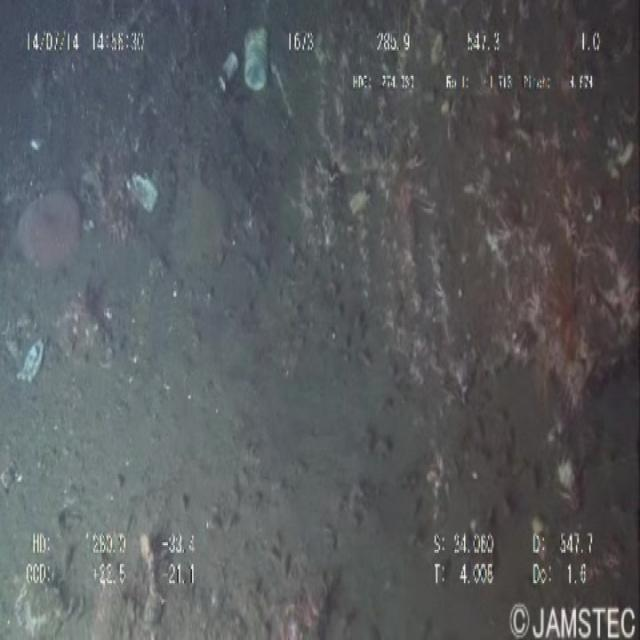Glass: (207, 44, 244, 104)
Litter: (126, 146, 167, 237), (14, 326, 51, 401)
Plastic: (244, 19, 273, 104)
